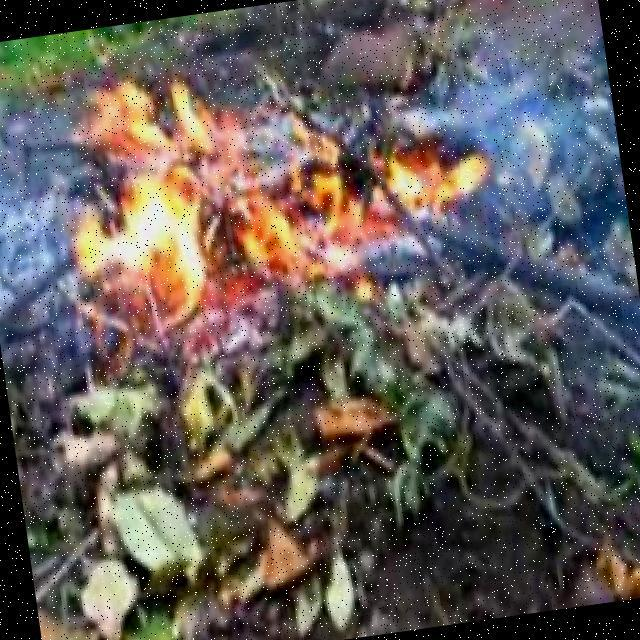Fire: (53, 68, 289, 341), (228, 118, 493, 295)
